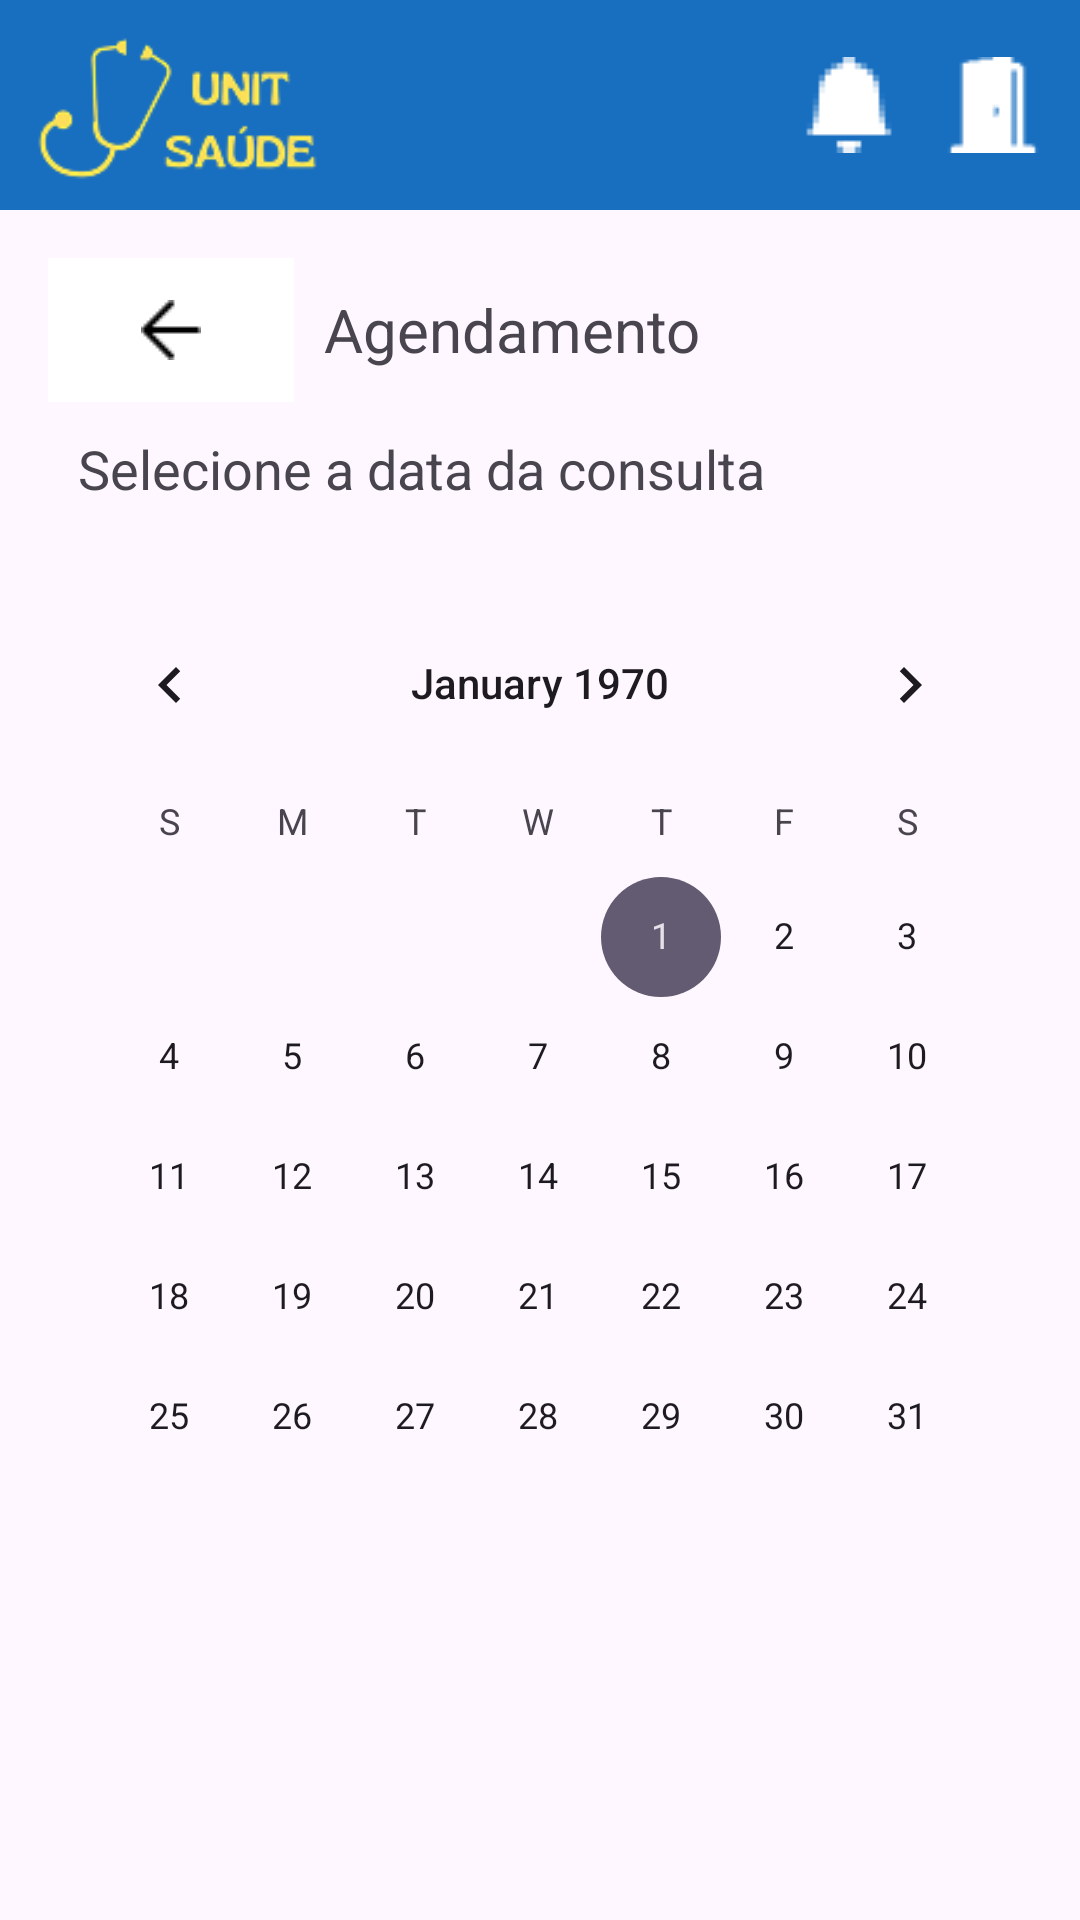

Named icons in this screenshot (1080*1920) and their bounding boxes, BBox(x1, y1, x2, y2):
bell: BBox(806, 57, 892, 153)
door: BBox(950, 57, 1036, 153)
voltar: BBox(141, 300, 201, 360)
